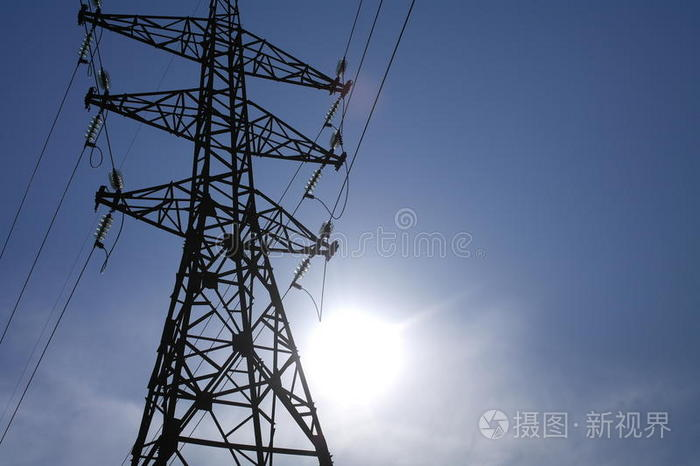insulator: (93, 213, 115, 240), (321, 100, 340, 127), (83, 114, 102, 139), (293, 260, 313, 280), (305, 170, 322, 193), (77, 34, 91, 55)
